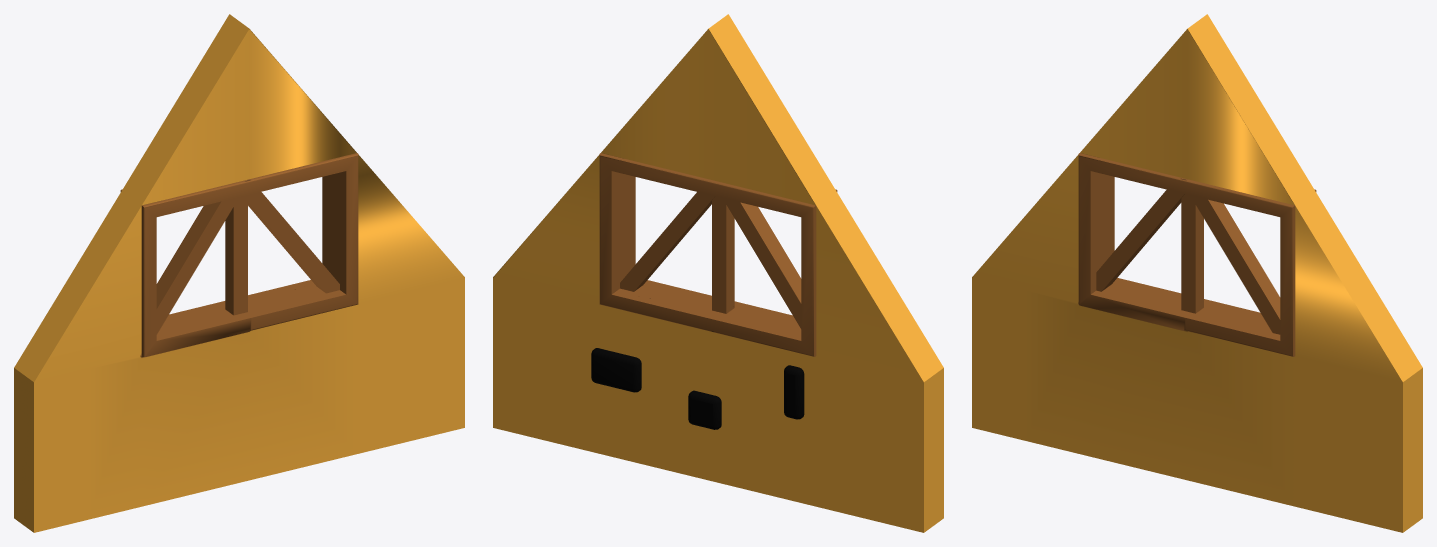
The model's file is Wall Up 6.fbx.
3 views of the same model, side by side, from view 1: azimuth 30°, elevation 25°; view 2: azimuth 150°, elevation 25°; view 3: azimuth 330°, elevation 25° (orthographic).
Parts seen in each view (by area): view 1: Wall Up 6; view 2: Wall Up 6; view 3: Wall Up 6.
Boxes of the visible parts, x1,y1,x2,y2 form: Wall Up 6: (14,14,464,532); Wall Up 6: (493,14,943,532); Wall Up 6: (972,14,1422,532).
Bounding box in the file's own units: 249 × 249 × 26.
Materials: 1 (1 with a texture image).
